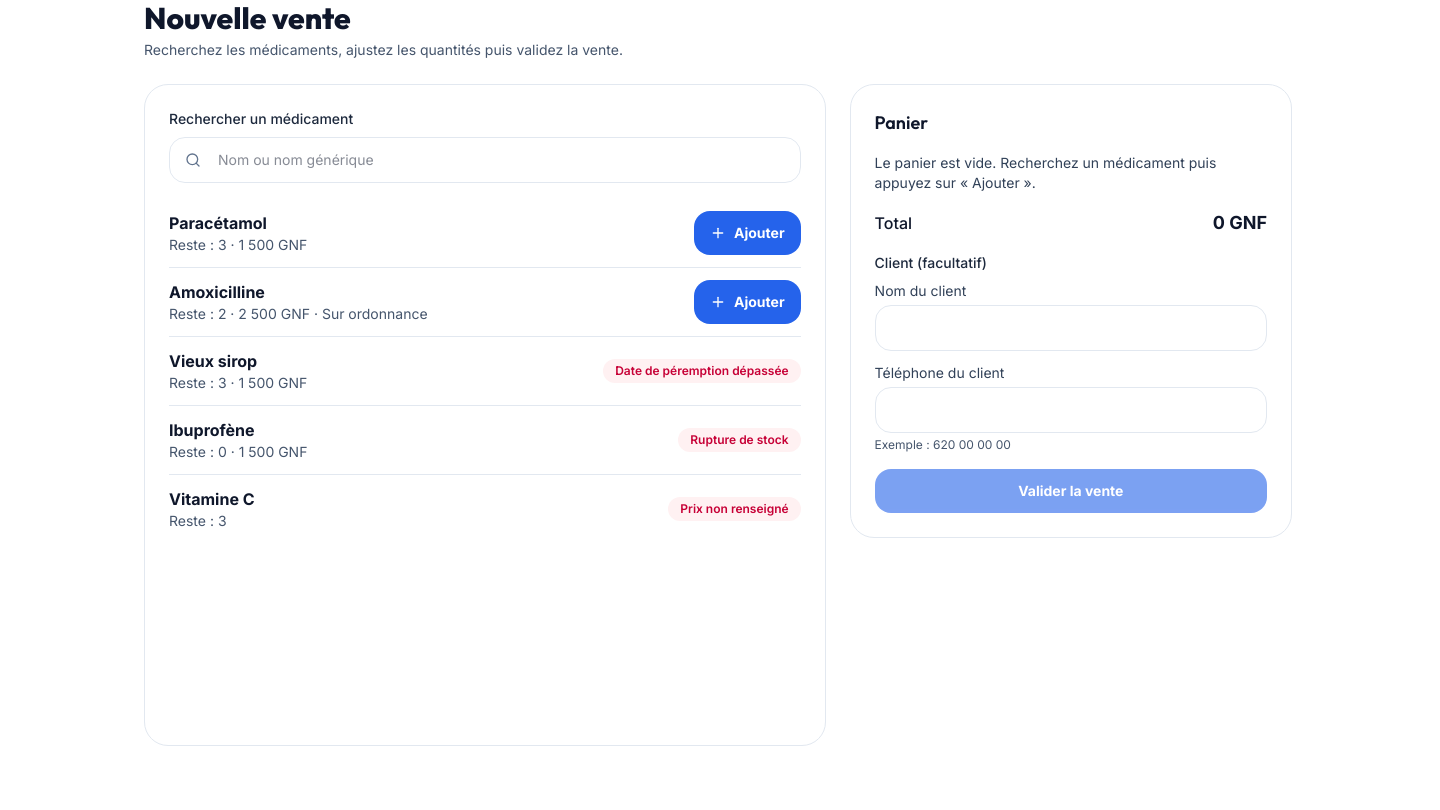
Test case: Nouvelle vente › enregistre la vente après confirmation et affiche le reçu
Expected: the text "Paracétamol" is shown, [169,213,267,233]
Click the button with aria-label "Ajouter Paracétamol au panier" at [747, 233], box [694,211,801,255]
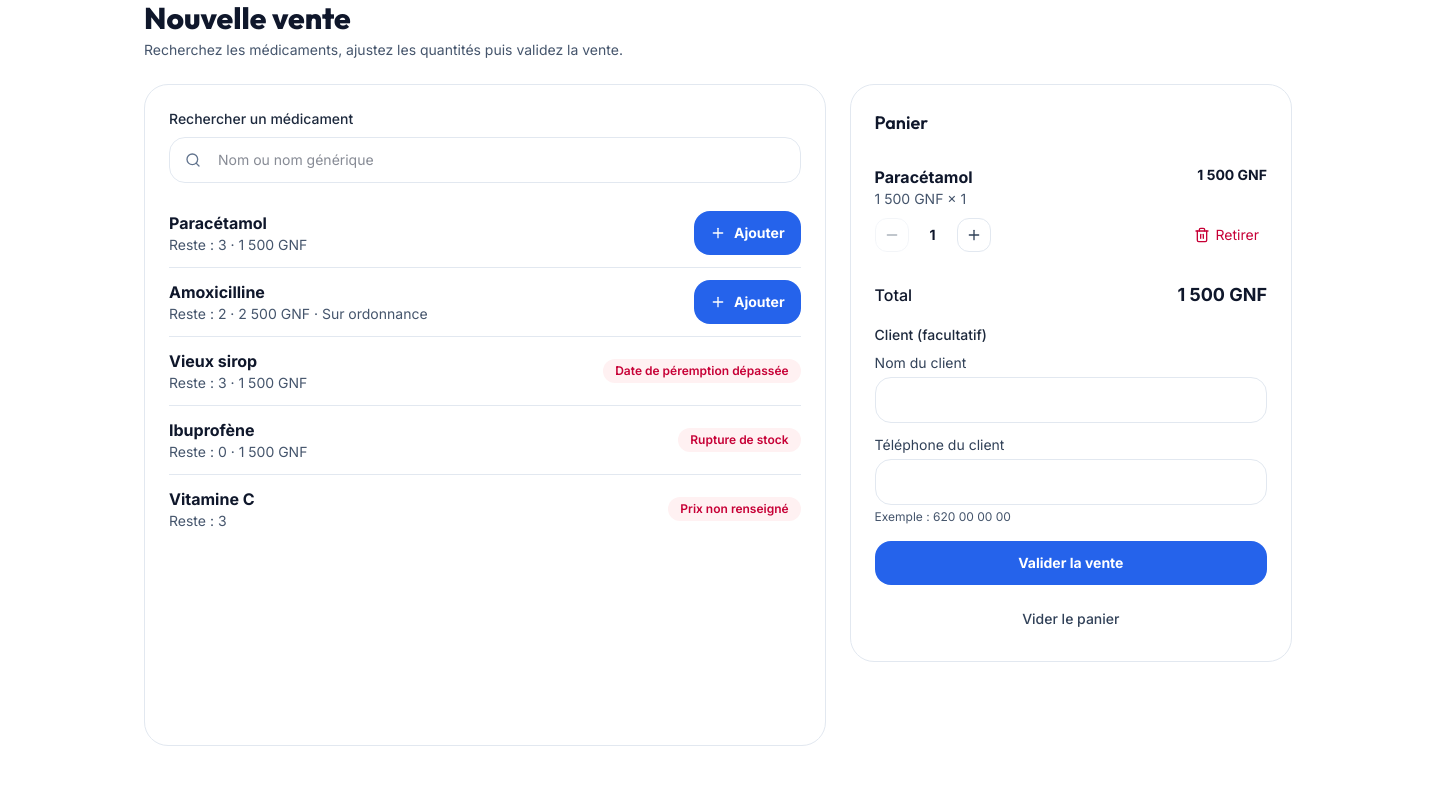
Click the button named "Augmenter la quantité de Paracétamol" at [974, 235], box [957,218,991,252]
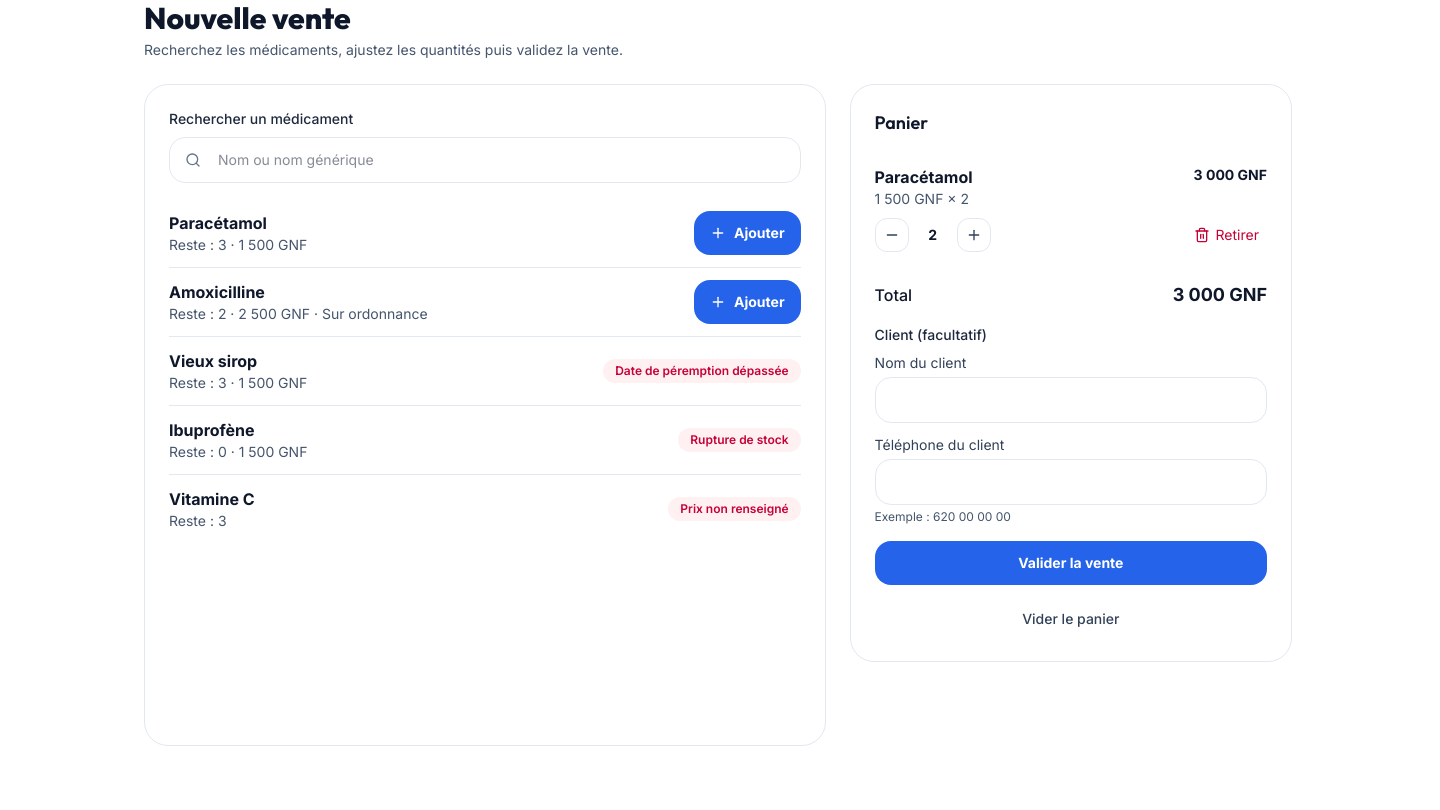
Click the button "Valider la vente" at [1071, 563], box [875,541,1267,585]
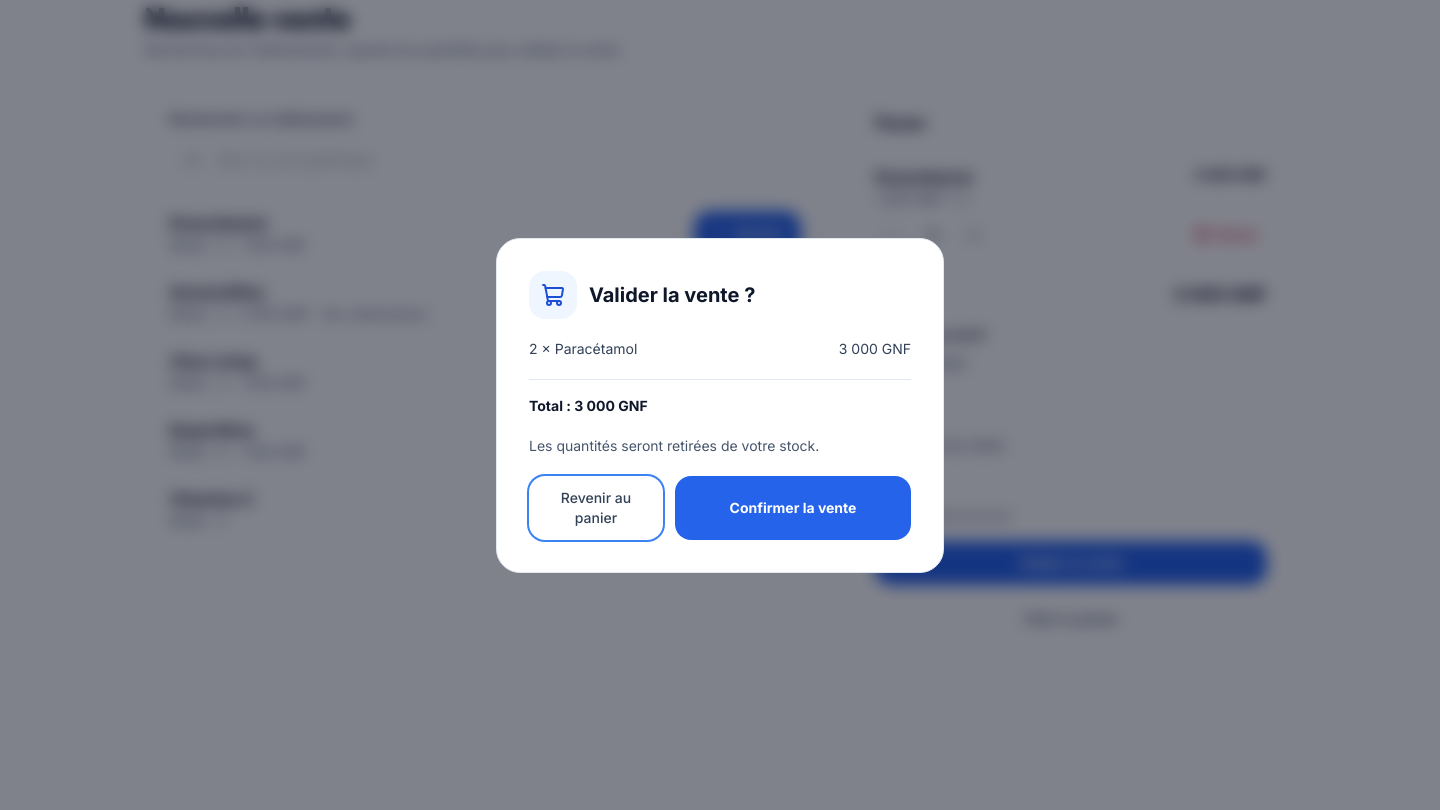
Click the button "Confirmer la vente" at [793, 508], box [675,476,911,540]
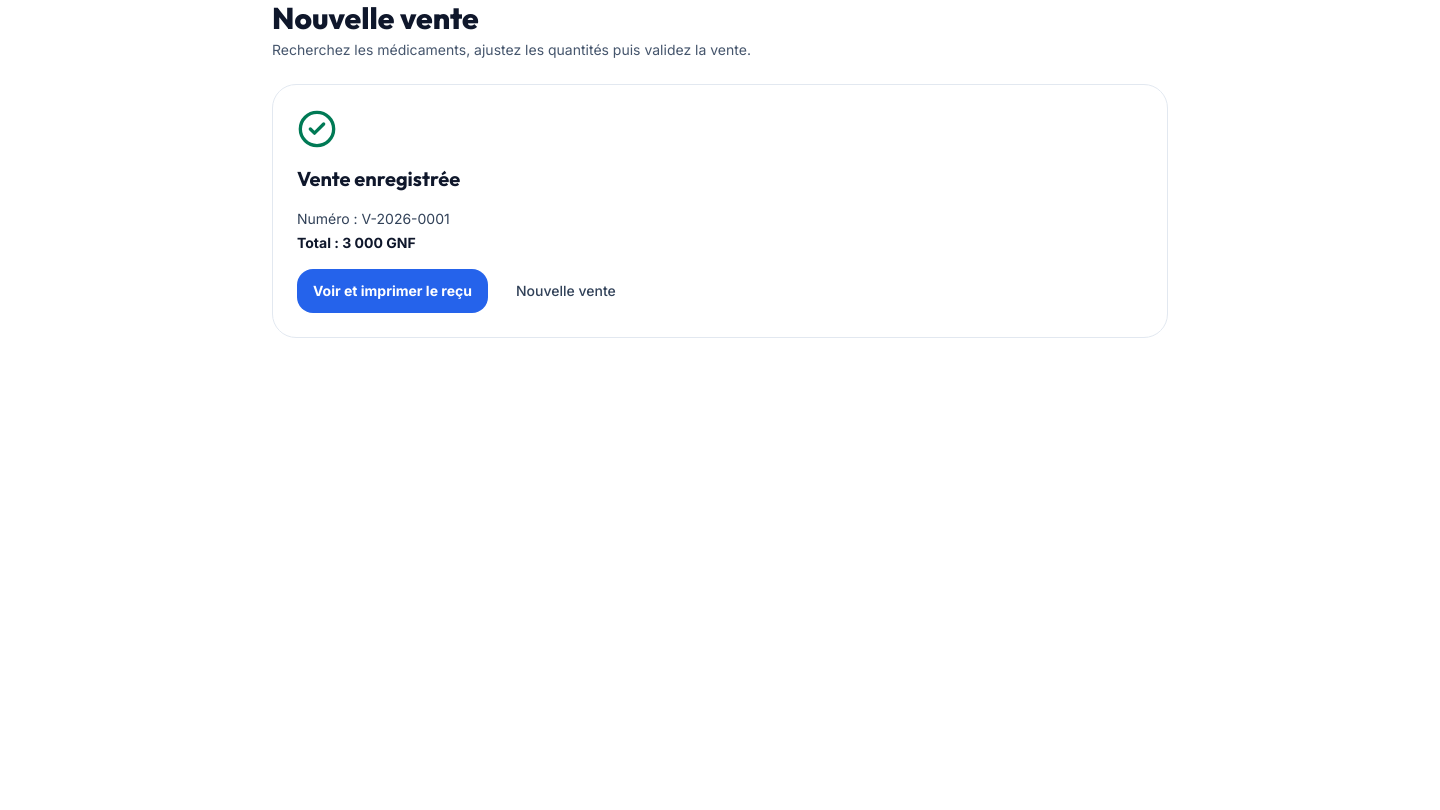
Expected: the text "Numéro : V-2026-0001" is shown, [297,209,450,229]
